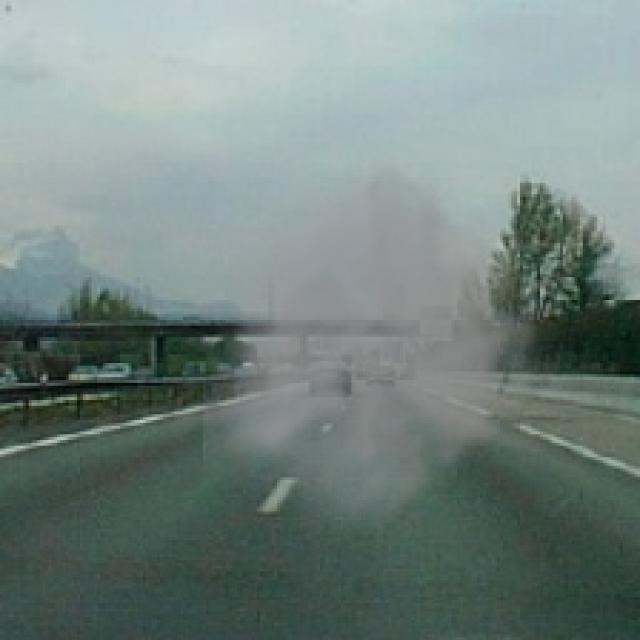smoke: (203, 143, 580, 551)
